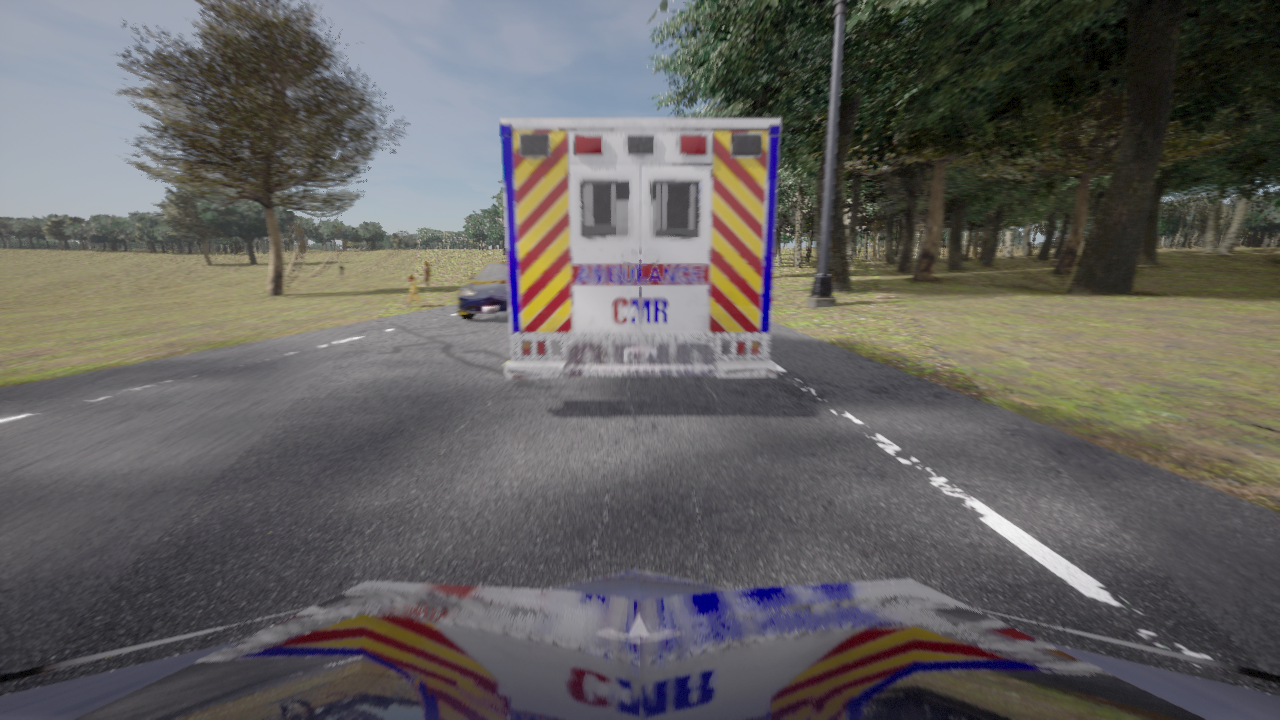cyclist: (0, 569, 1279, 719), (499, 118, 780, 379), (456, 262, 508, 319)
pedestrian: (405, 277, 422, 307), (424, 263, 430, 291), (337, 262, 344, 281)
